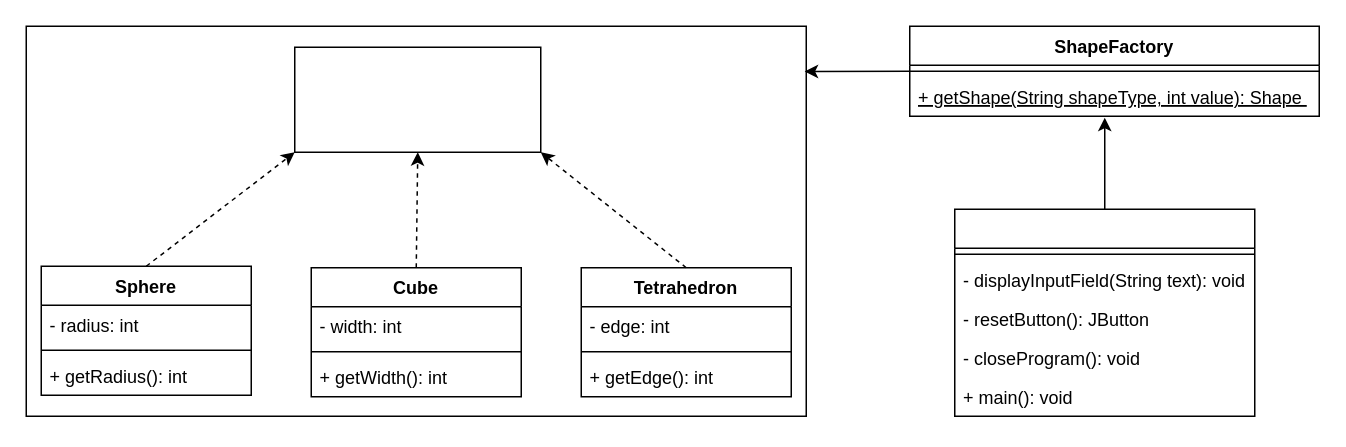
Some shapes in this 1346 by 447 pixel diagram are drawn without their labels. The shapes that lost their labels are listed below. From the top down, each one's box as (x1, y1, x2, y2) in pixels, then its label:
(293, 46, 541, 152): <<Interface>> Shape + getVolume(): double
(953, 208, 1255, 416): Demo
